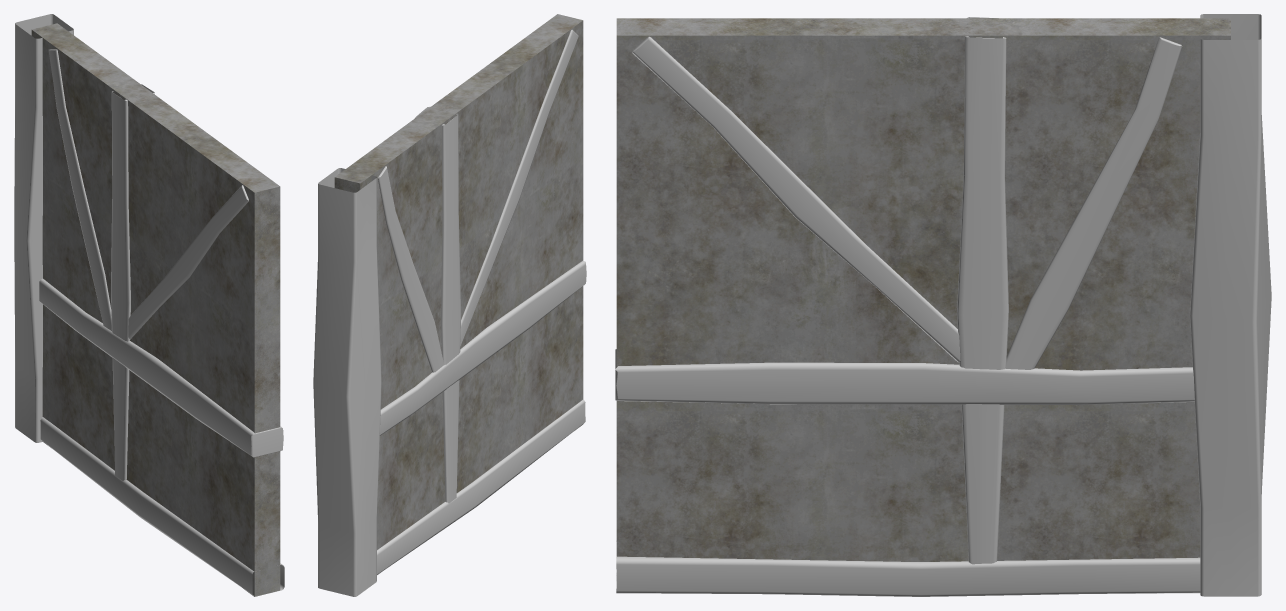
File: SM_Wall55.fbx
The picture shows the model from 3 angles, left to right: view 1: azimuth 30°, elevation 25°; view 2: azimuth 150°, elevation 25°; view 3: azimuth 270°, elevation 25°; orthographic projection. The views are drawn at different scales.
Parts seen in each view (by area): view 1: SM_Wall55_LOD0; view 2: SM_Wall55_LOD0; view 3: SM_Wall55_LOD0.
Boxes of the visible parts, x1,y1,x2,y2 form: SM_Wall55_LOD0: (14, 14, 284, 596); SM_Wall55_LOD0: (313, 14, 586, 596); SM_Wall55_LOD0: (615, 14, 1271, 596).
Bounding box in the file's own units: 39.87 × 321 × 303.
